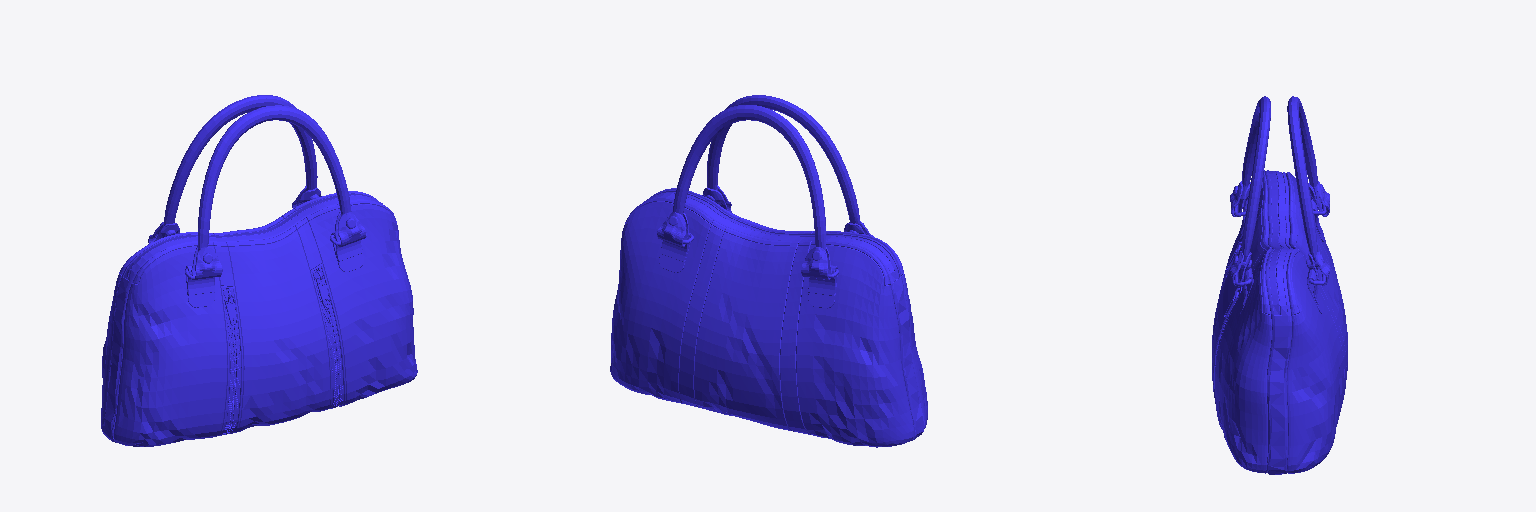
The model's file is bag8.obj.
The picture shows the model from 3 angles: view 1: azimuth 30°, elevation 25°; view 2: azimuth 150°, elevation 25°; view 3: azimuth 270°, elevation 25°; orthographic projection.
Size of the model in its own units: 11.56 by 11.23 by 4.54.